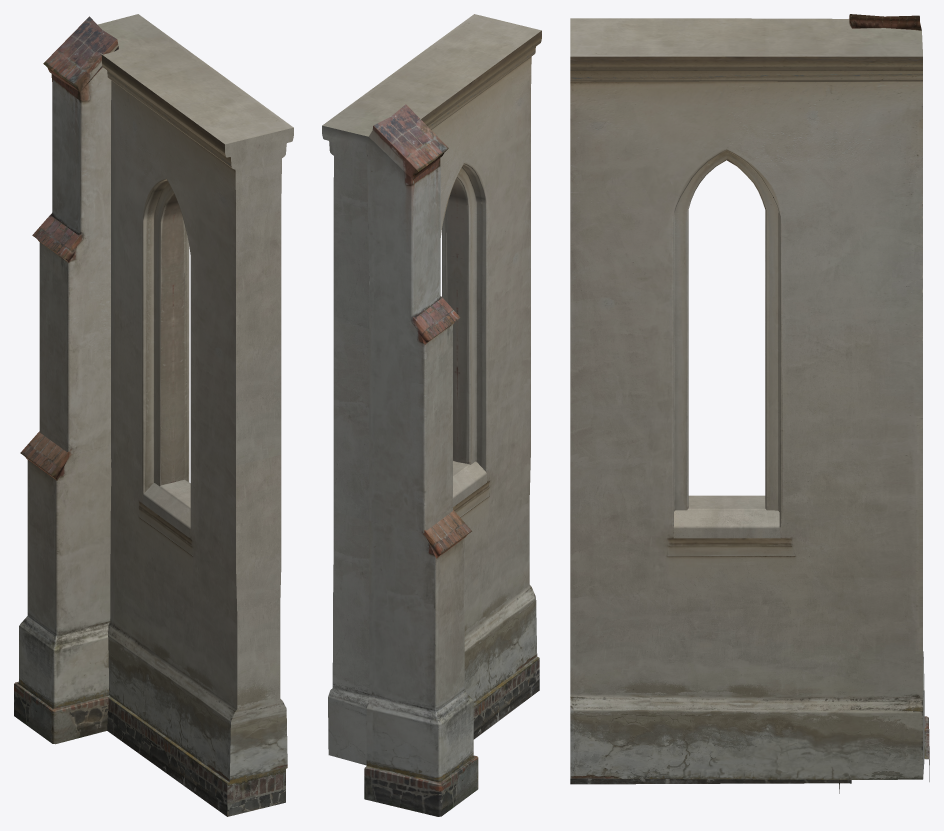
The model's file is sm_Church_01_31.fbx.
3 views of the same model, side by side, from view 1: azimuth 30°, elevation 25°; view 2: azimuth 150°, elevation 25°; view 3: azimuth 270°, elevation 25° (orthographic). The views are drawn at different scales.
Parts seen in each view (by area): view 1: sm_Church_01_31_LOD0; view 2: sm_Church_01_31_LOD0; view 3: sm_Church_01_31_LOD0.
Part boxes in pixels (bbox=[...]): sm_Church_01_31_LOD0: bbox=[14, 14, 293, 816]; sm_Church_01_31_LOD0: bbox=[322, 14, 541, 816]; sm_Church_01_31_LOD0: bbox=[570, 14, 929, 793].
Size of the model in its own units: 85.08 by 189 by 452.
